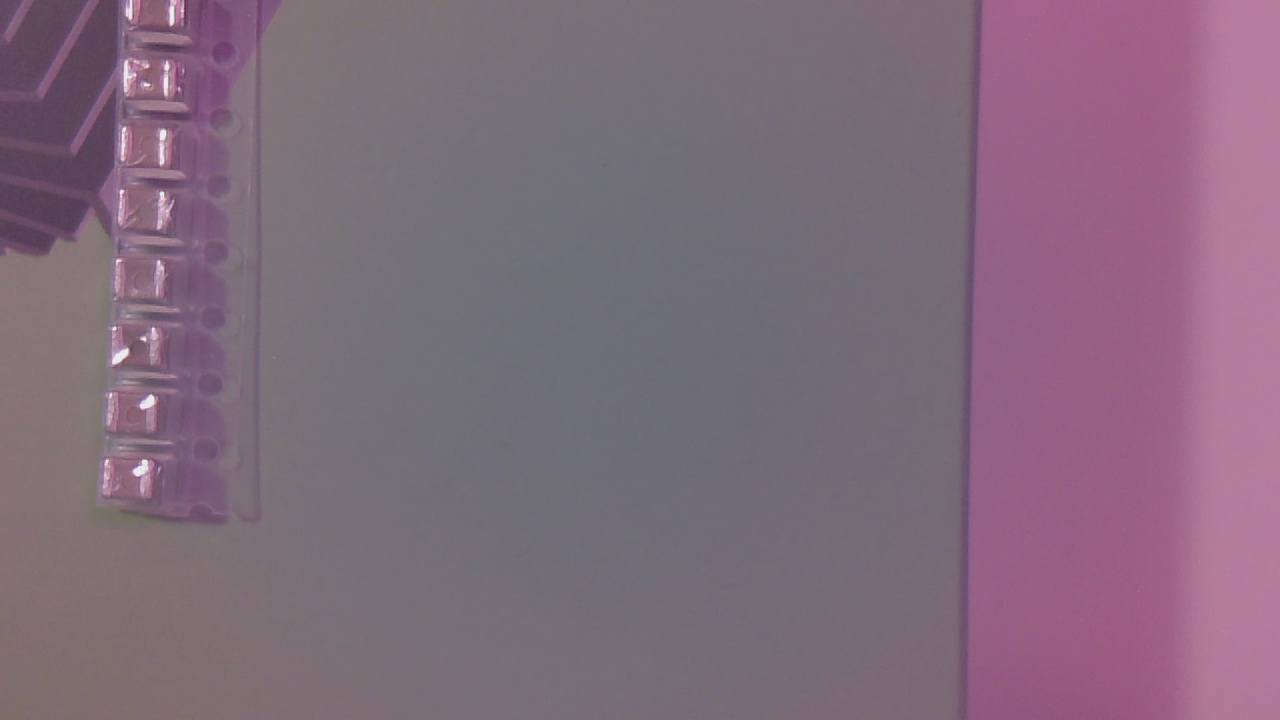Condensator: (126, 57, 194, 107), (122, 125, 184, 176), (122, 191, 182, 239), (118, 261, 177, 306), (112, 395, 168, 441), (116, 330, 178, 371), (107, 461, 162, 506), (129, 5, 195, 35)
